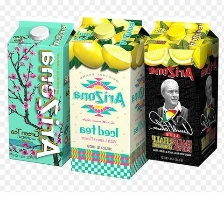carton: (64, 14, 149, 179), (141, 14, 220, 170), (3, 14, 71, 164)
